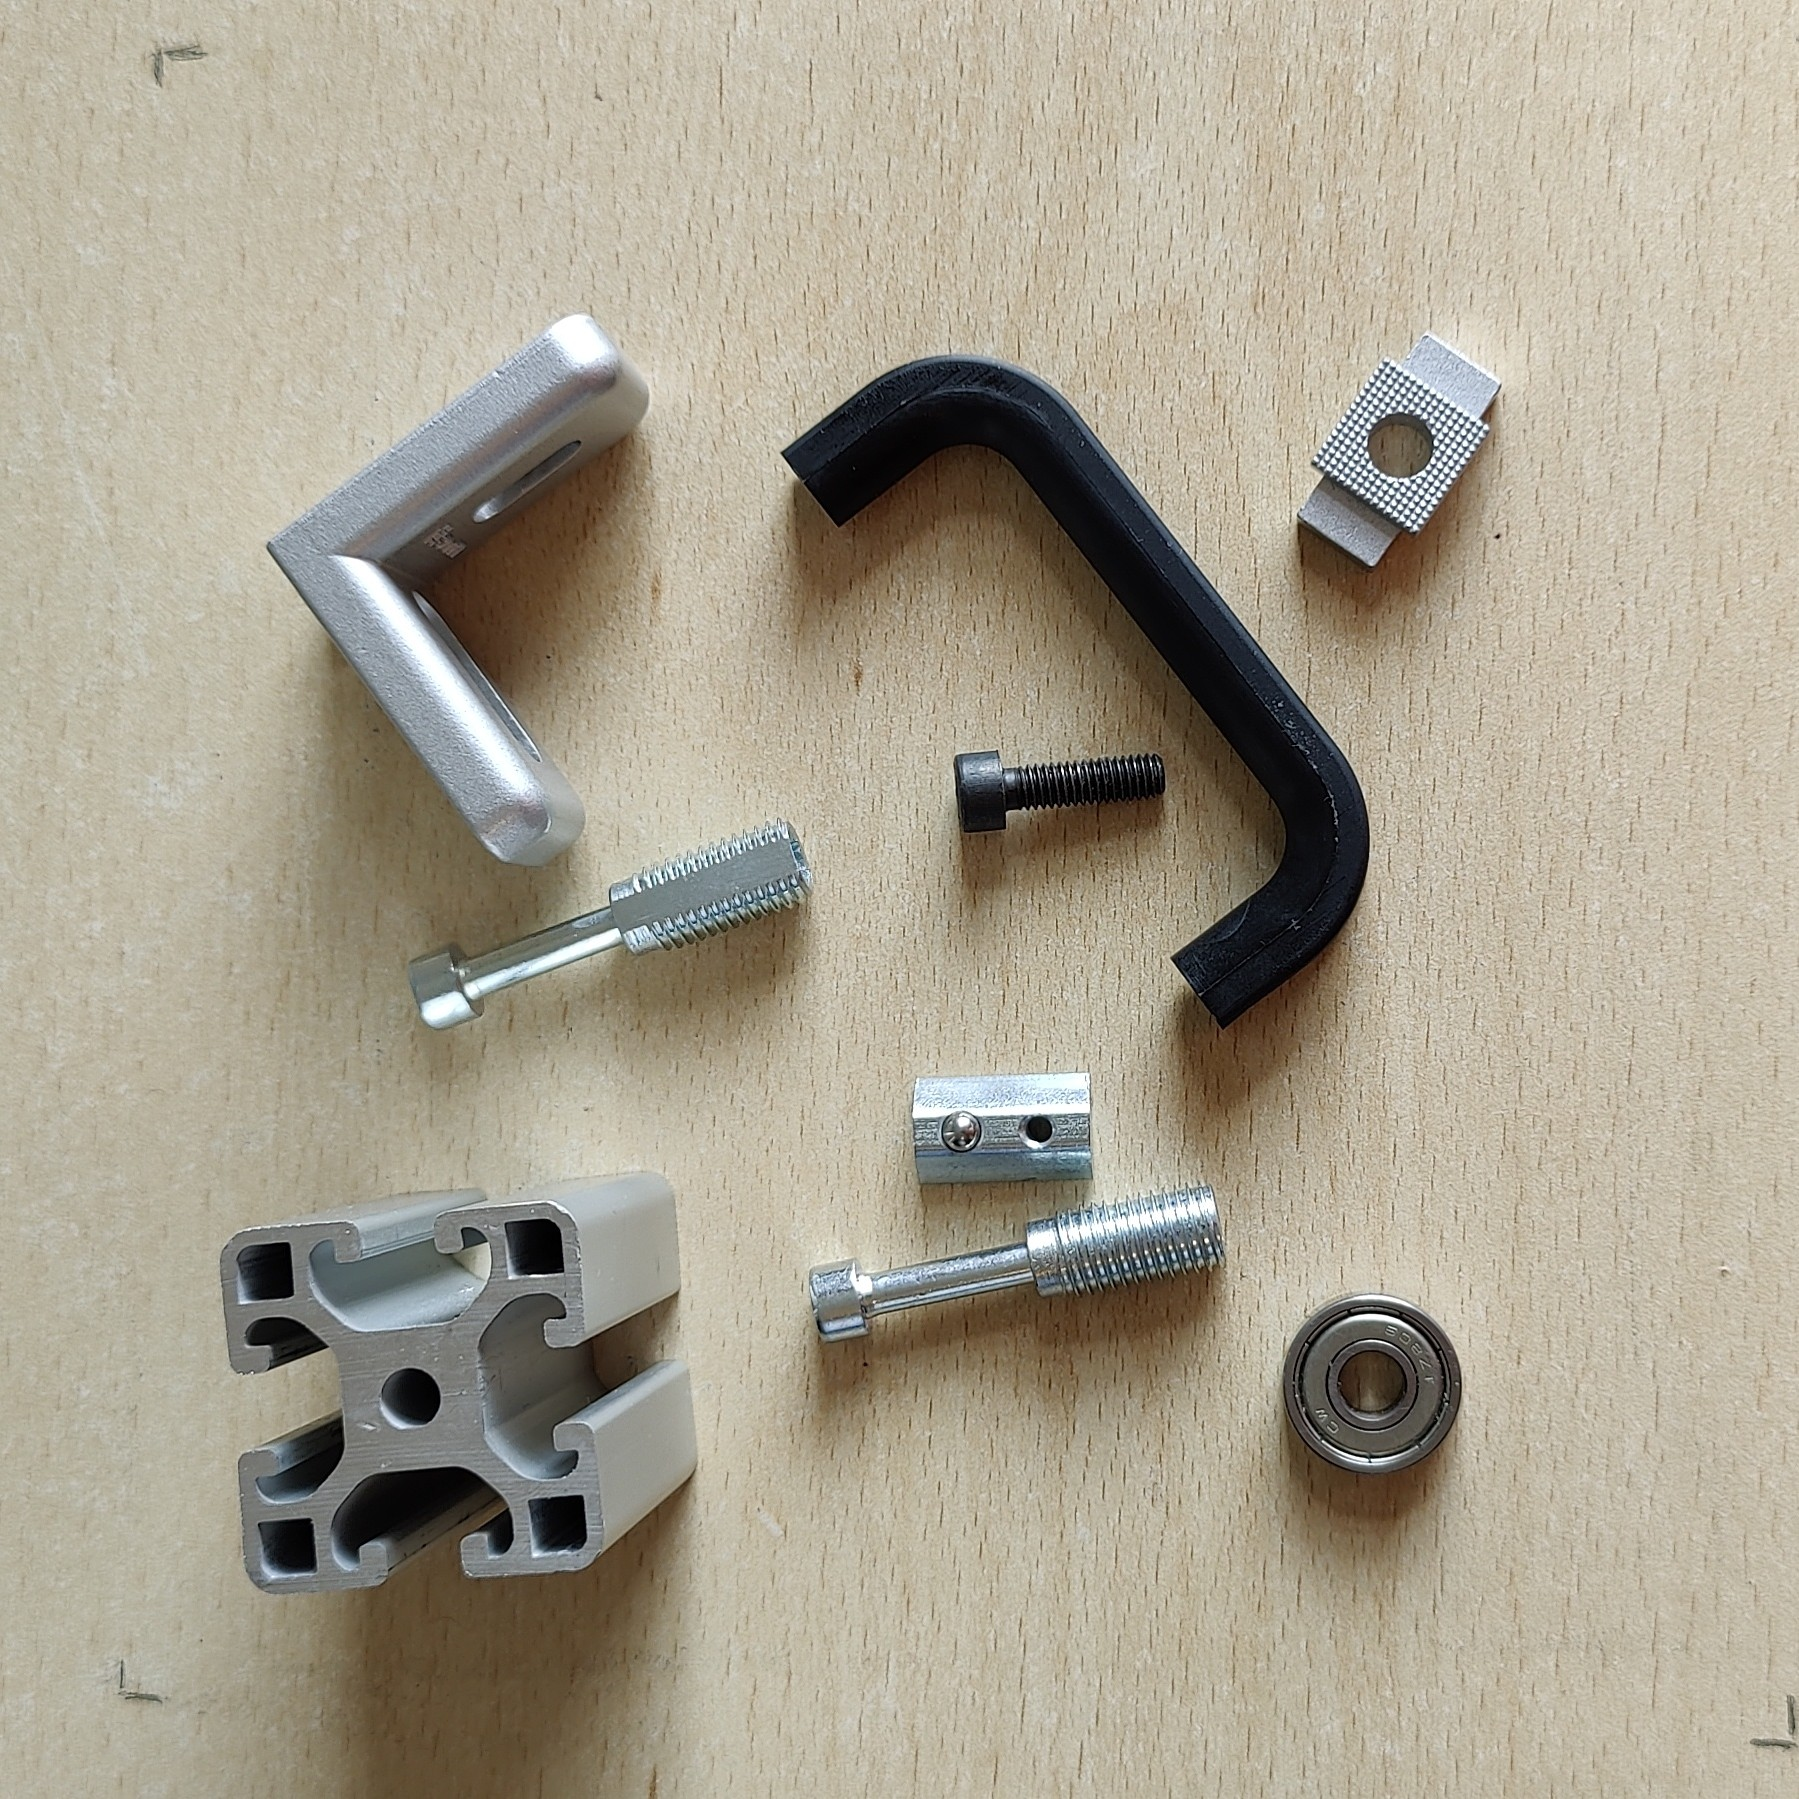Aluminium Extension: (217, 1170, 702, 1595)
Ball Bearing: (1280, 1292, 1465, 1479)
Multiwinkel: (262, 313, 652, 871)
Pull Handle: (778, 353, 1372, 1030)
Shoulder Socket Head Cap Screw: (404, 819, 815, 1033), (806, 1183, 1227, 1348)
Socket Head Cap Screw: (951, 746, 1168, 834)
T Nut Square: (1295, 331, 1504, 572)
T Spring Nut: (908, 1071, 1096, 1188)
